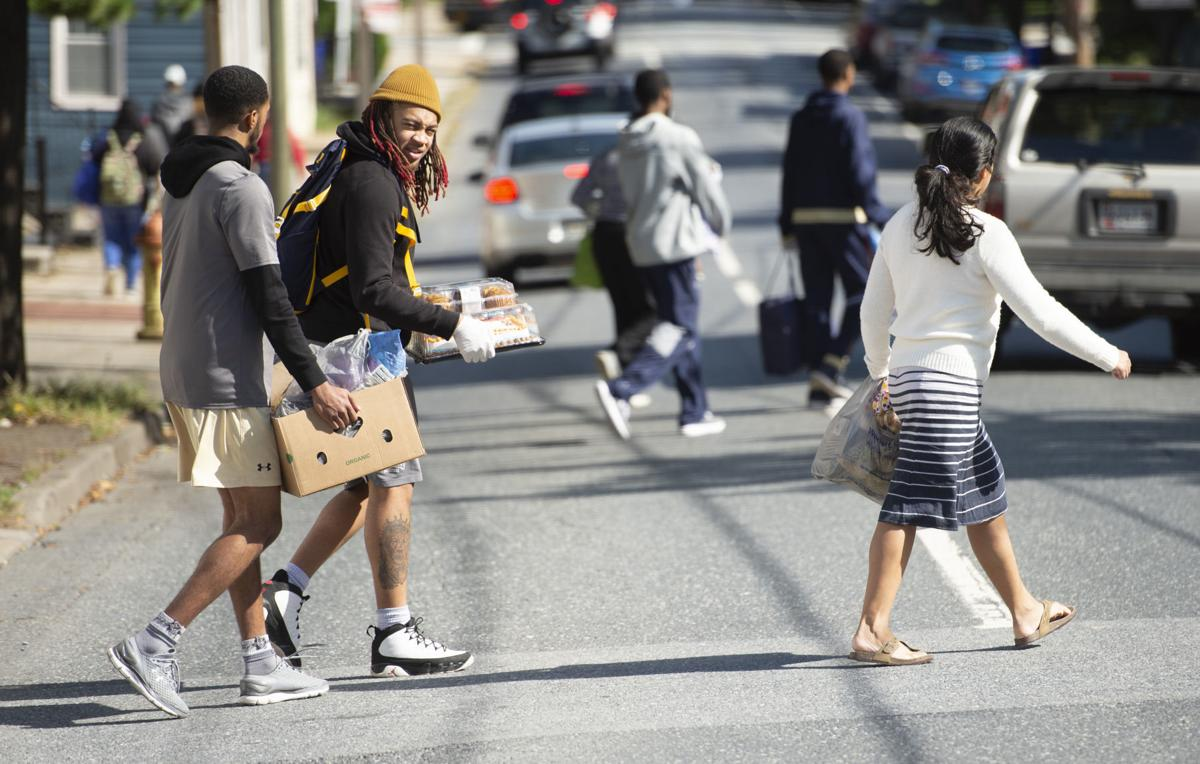person: (107, 66, 360, 717), (849, 116, 1133, 668), (260, 65, 498, 679), (591, 71, 728, 442), (781, 45, 897, 416), (84, 99, 166, 299), (148, 65, 196, 130)
